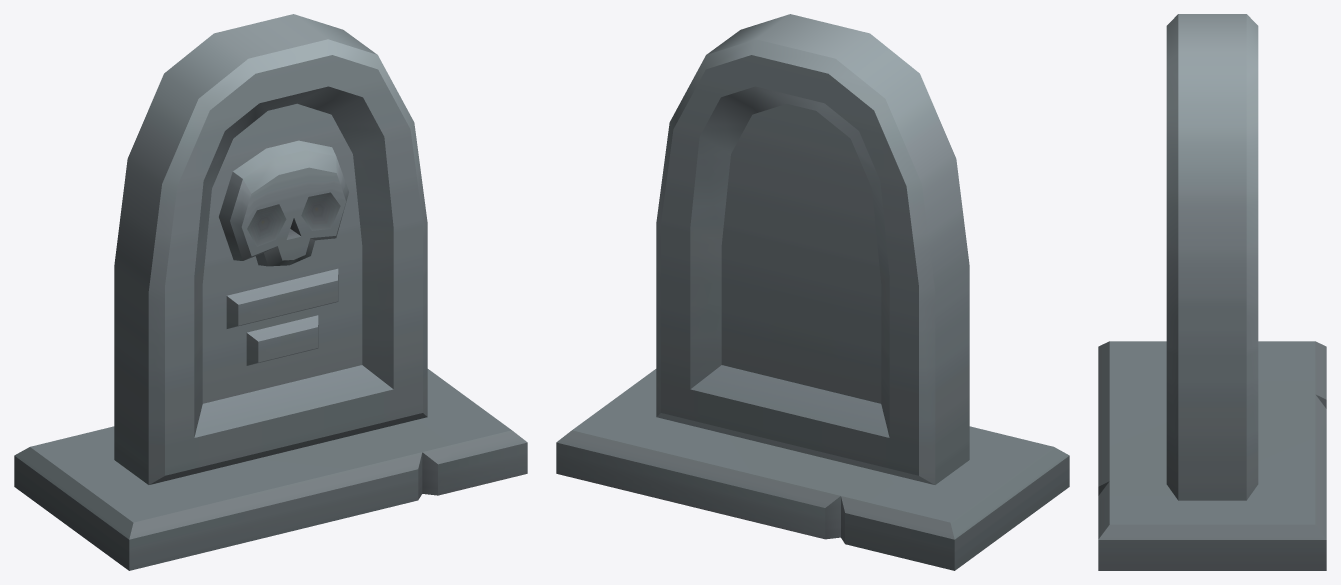
File: grave_a.glb
The picture shows the model from 3 angles, left to right: view 1: azimuth 30°, elevation 25°; view 2: azimuth 150°, elevation 25°; view 3: azimuth 270°, elevation 25°; orthographic projection.
Parts seen in each view (by area): view 1: grave_A; view 2: grave_A; view 3: grave_A.
Part boxes in pixels (<box>): grave_A: <box>14,14,527,570</box>; grave_A: <box>556,14,1069,570</box>; grave_A: <box>1098,14,1326,570</box>.
Bounding box in the file's own units: 2 × 2.13 × 0.9999.
Materials: 1 (1 with a texture image).
